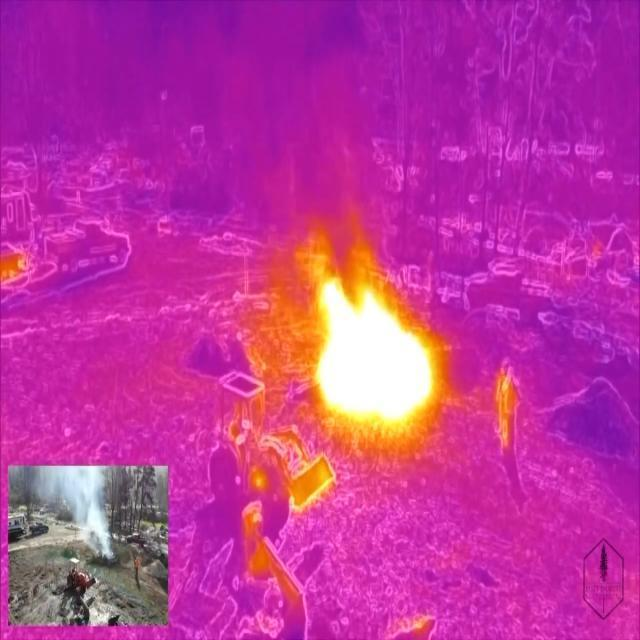fire: (316, 270, 438, 431)
